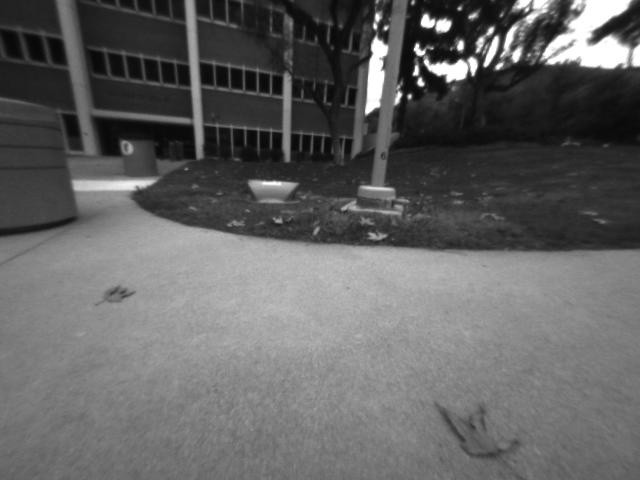trashcan: (118, 137, 159, 181)
